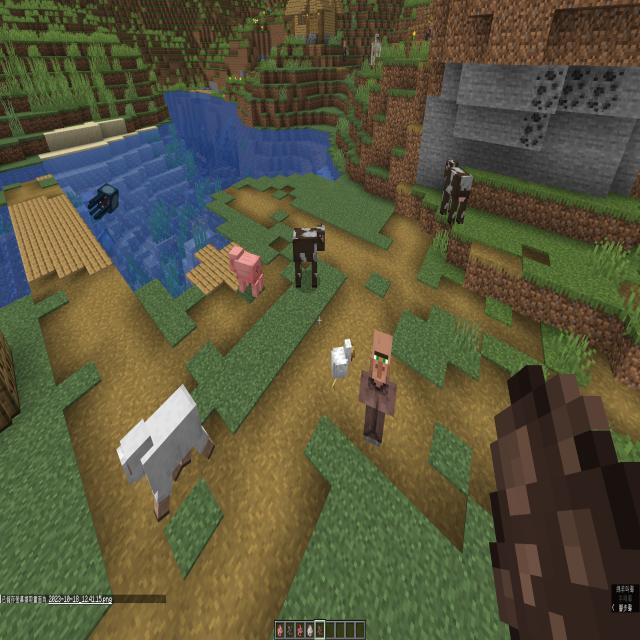chicken: (324, 332, 358, 388)
cow: (433, 142, 479, 242), (283, 211, 332, 299)
iron golem: (368, 29, 384, 72)
pig: (223, 237, 267, 307)
